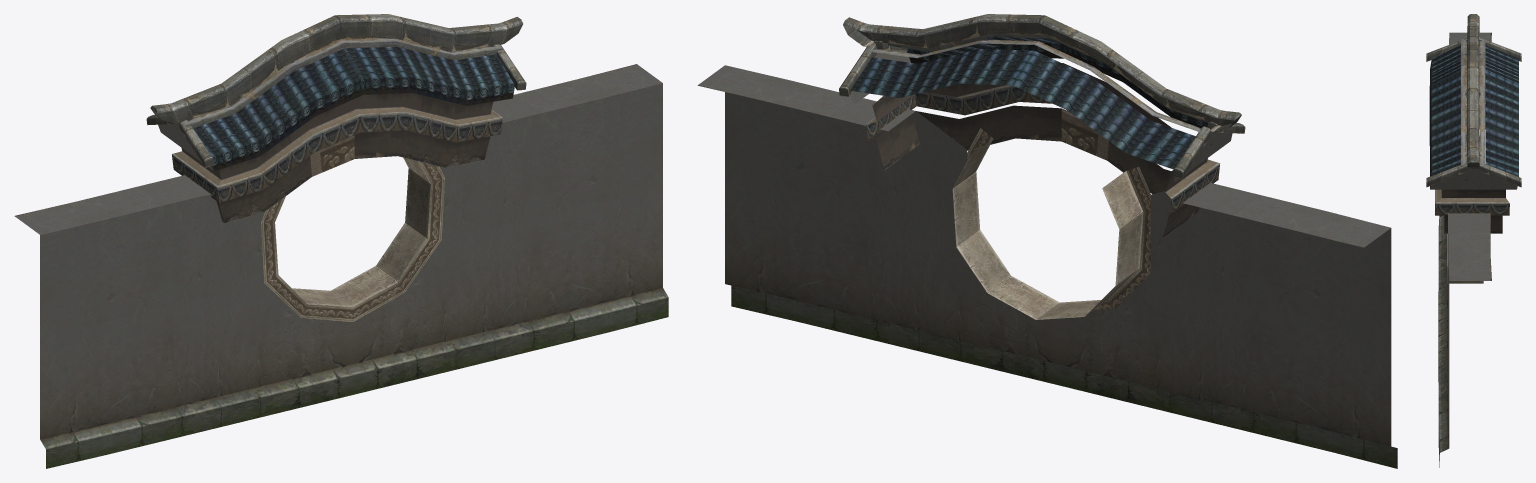
File: cj_luoyang_weiqiang02_55_34_1504out.fbx
3 renders of one model, left to right at view 1: azimuth 30°, elevation 25°; view 2: azimuth 150°, elevation 25°; view 3: azimuth 270°, elevation 25°, orthographic. The views are drawn at different scales.
Parts seen in each view (by area): view 1: cj_luoyang_weiqiang02; view 2: cj_luoyang_weiqiang02; view 3: cj_luoyang_weiqiang02.
Part boxes in pixels (x1,y1,x2,y2): cj_luoyang_weiqiang02: [14, 14, 668, 468]; cj_luoyang_weiqiang02: [697, 14, 1397, 468]; cj_luoyang_weiqiang02: [1426, 14, 1521, 467].
Size of the model in its own units: 8.68 by 4.82 by 1.41.
